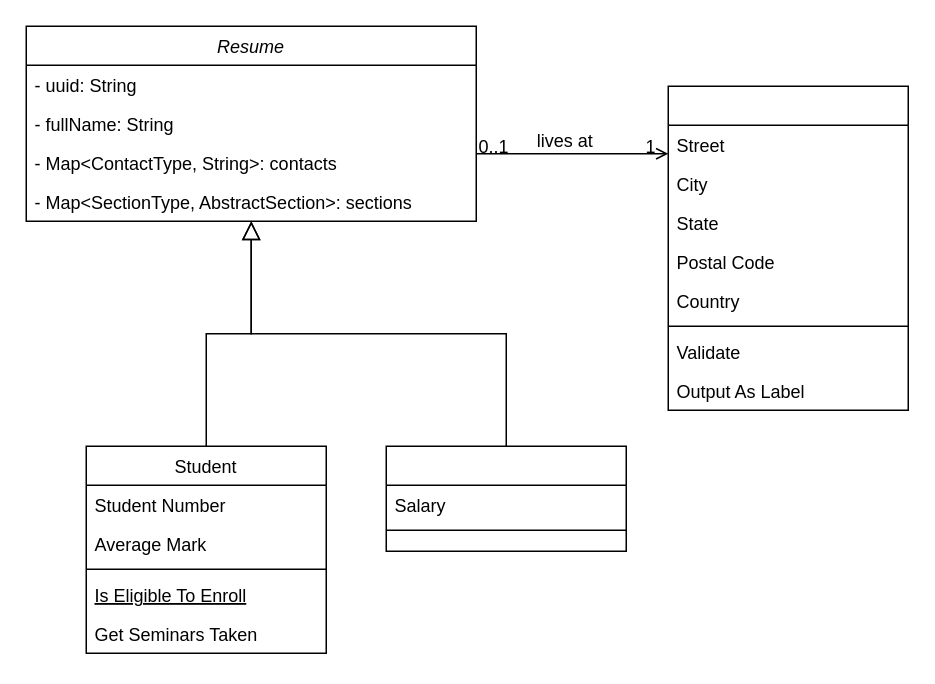
Some shapes in this 935 by 684 pixel diagram are drawn without their labels. The box of each missing label's shape, as (x1, y1, x2, y2) in pixels:
Address: (667, 85, 908, 410)
Professor: (385, 445, 626, 551)
